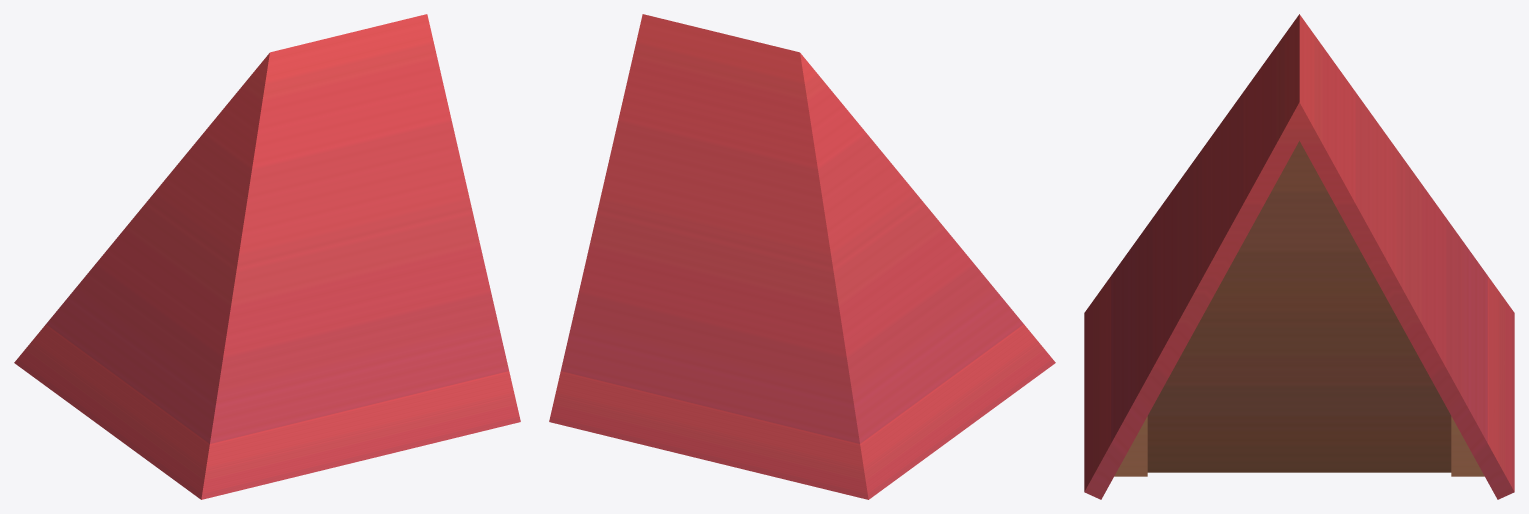
The model's file is roof-high-gable-end.glb.
3 renders of one model, left to right at view 1: azimuth 30°, elevation 25°; view 2: azimuth 150°, elevation 25°; view 3: azimuth 270°, elevation 25°, orthographic. The views are drawn at different scales.
Visible parts, largest first — view 1: roof-high-gable-end; view 2: roof-high-gable-end; view 3: roof-high-gable-end.
Boxes of the visible parts, bbox=[...] form: roof-high-gable-end: bbox=[14, 14, 520, 499]; roof-high-gable-end: bbox=[549, 14, 1055, 499]; roof-high-gable-end: bbox=[1084, 14, 1514, 499].
Bounding box in the file's own units: 1.12 × 1.16 × 1.13.
Materials: 1 (1 with a texture image).
